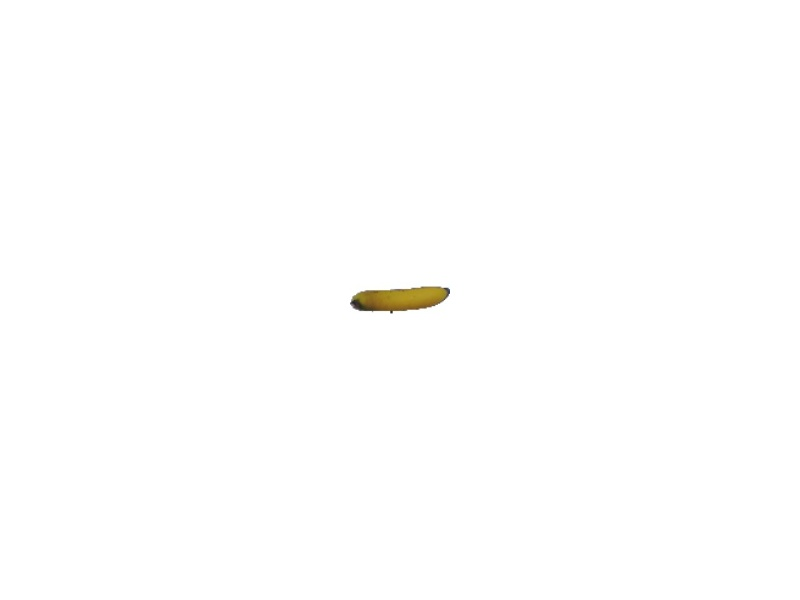banana: (348, 282, 453, 313)
